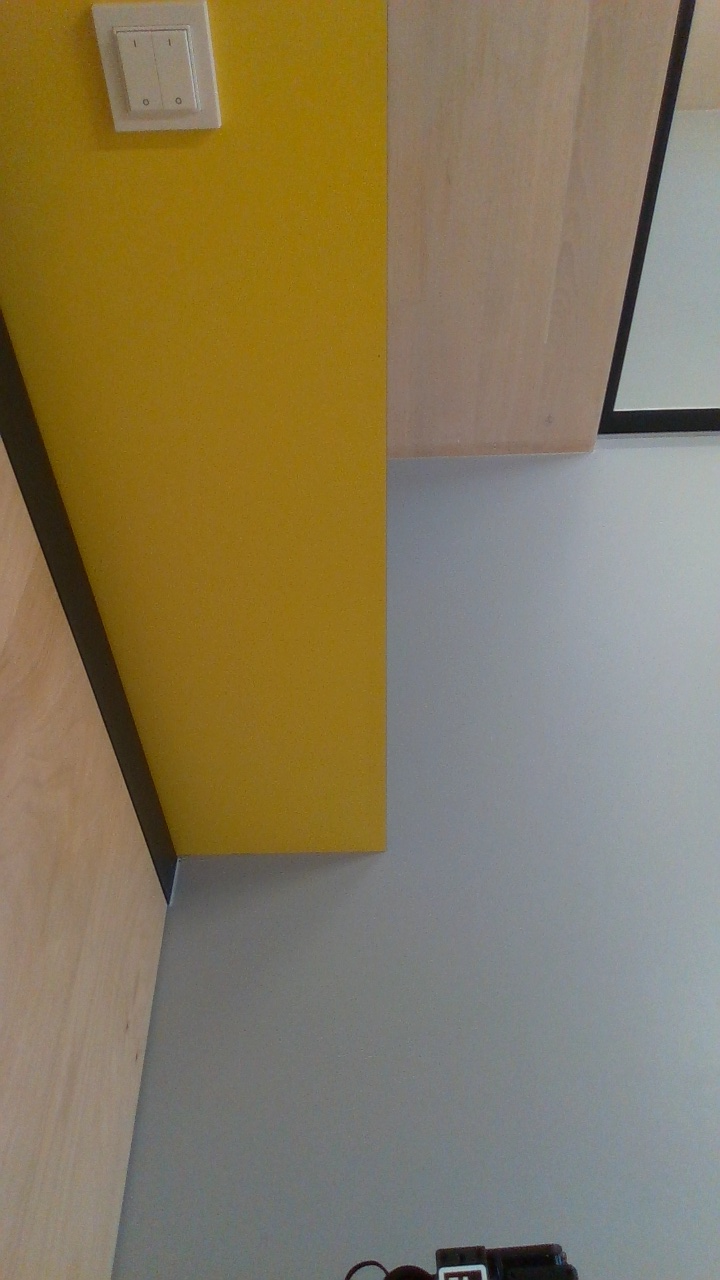Light_Switch: (92, 9, 218, 126)
